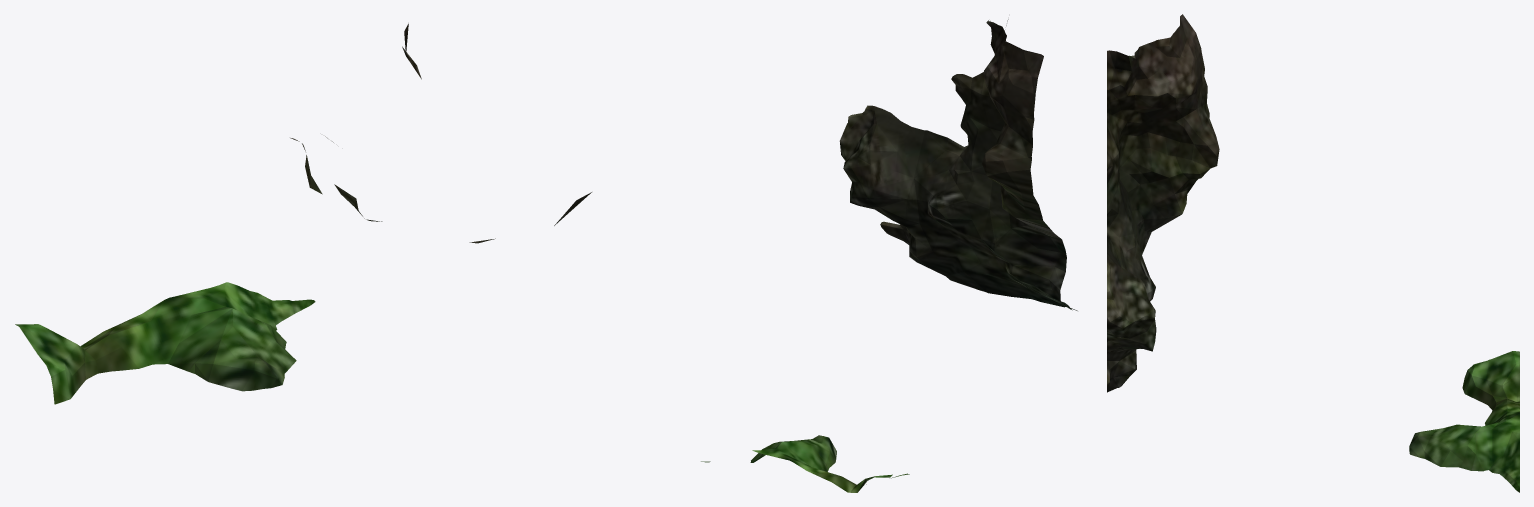
3 renders of one model, left to right at view 1: azimuth 30°, elevation 25°; view 2: azimuth 150°, elevation 25°; view 3: azimuth 270°, elevation 25°, orthographic. The views are drawn at different scales.
Size of the model in its own units: 1.21 by 1.67 by 1.67.
Materials: 2 (2 with a texture image).
